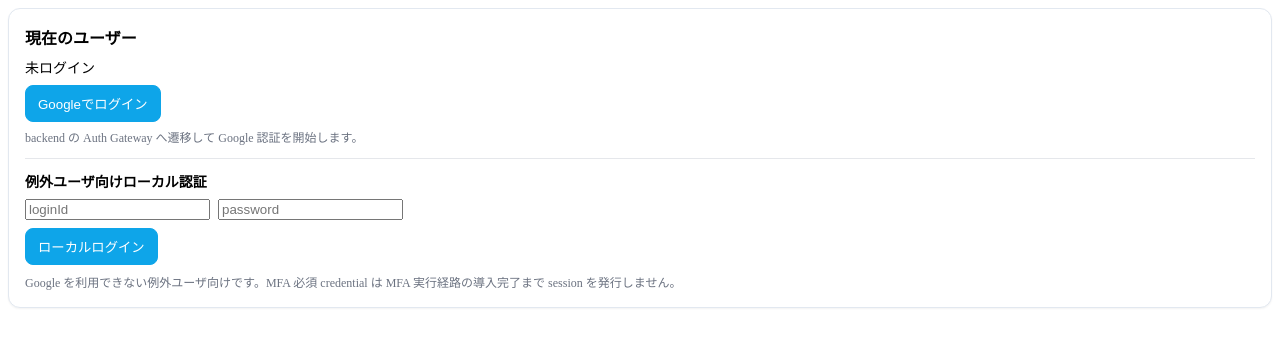
Test: CurrentUser › shows local login guidance for local_mfa_challenge_required
In the field named "ローカル認証 loginId": (118, 210) [25,199,210,220], type "local-user"
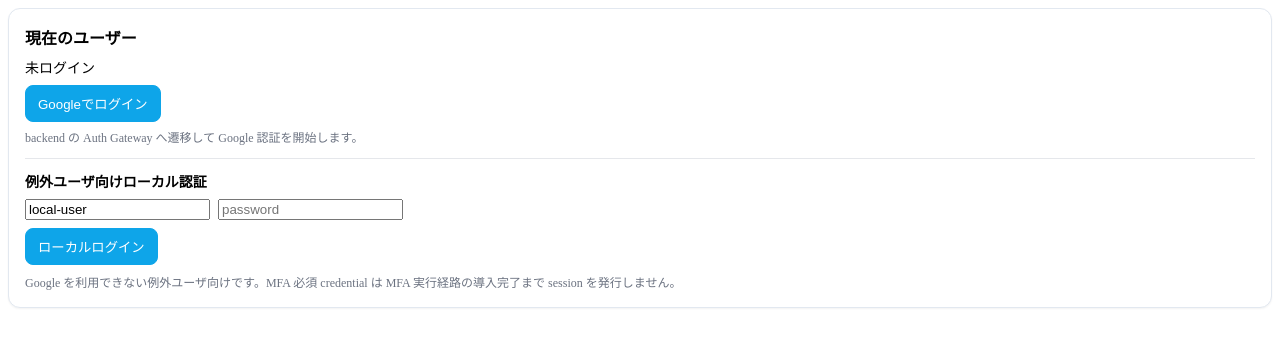
In the password field named "ローカル認証 password": (310, 210) [218,199,403,220], type "old-password"
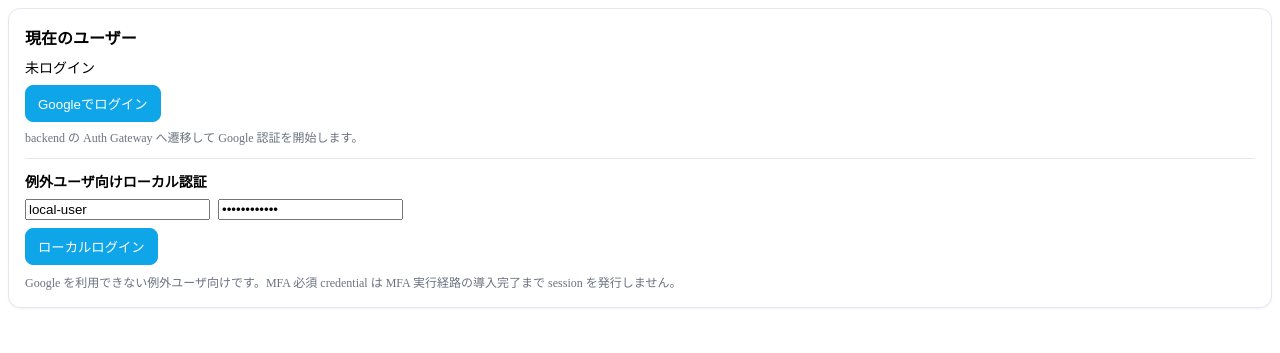
Click the button "ローカルログイン": click(91, 246) [25,228,158,265]
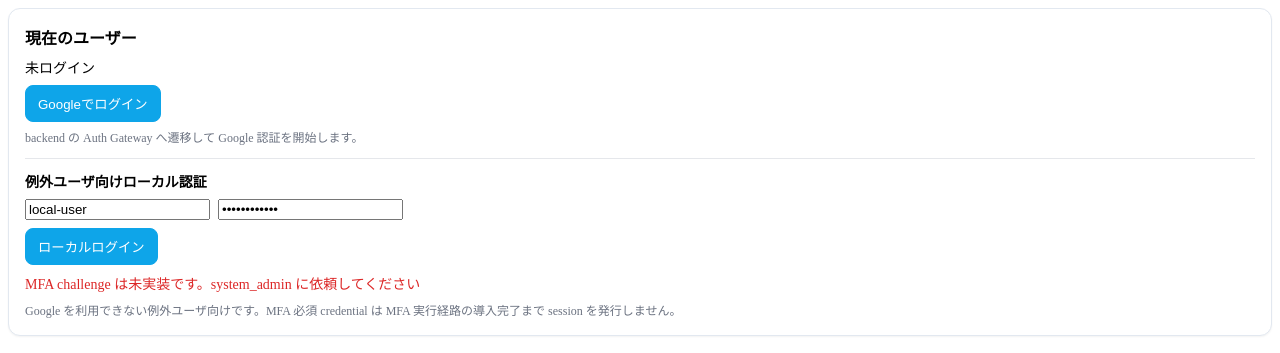
Now the text "MFA challenge は未実装です。system_admin に依頼してください" is shown, box [25,277,420,292]
